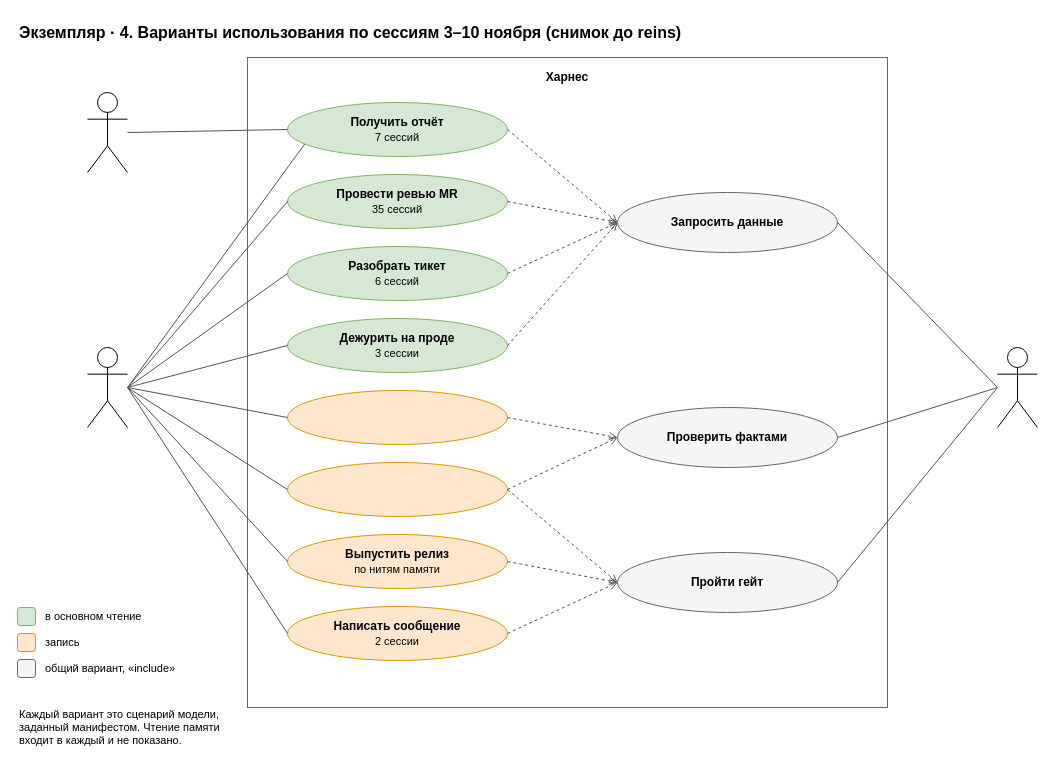
Some shapes in this 1060 by 774 pixel diagram are drawn without their labels. Here are the shapes that lost their labels. From the top down, the centre of each, then its label:
At [107,132]: "Расписание".
At [107,387]: "Оператор".
At [1017,387]: "Системы".
At [397,417]: "Развивать харнес 5 сессий".
At [397,489]: "Изменить код из разбора тикета".
